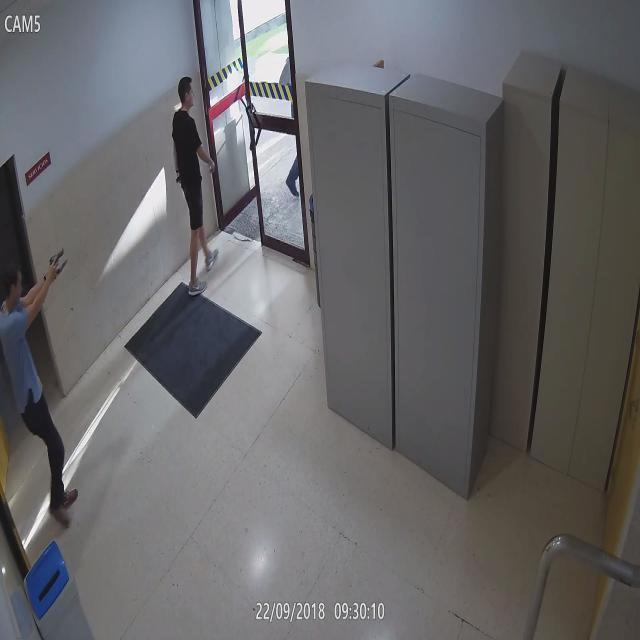weapon: (48, 250, 64, 274), (175, 177, 186, 190)
